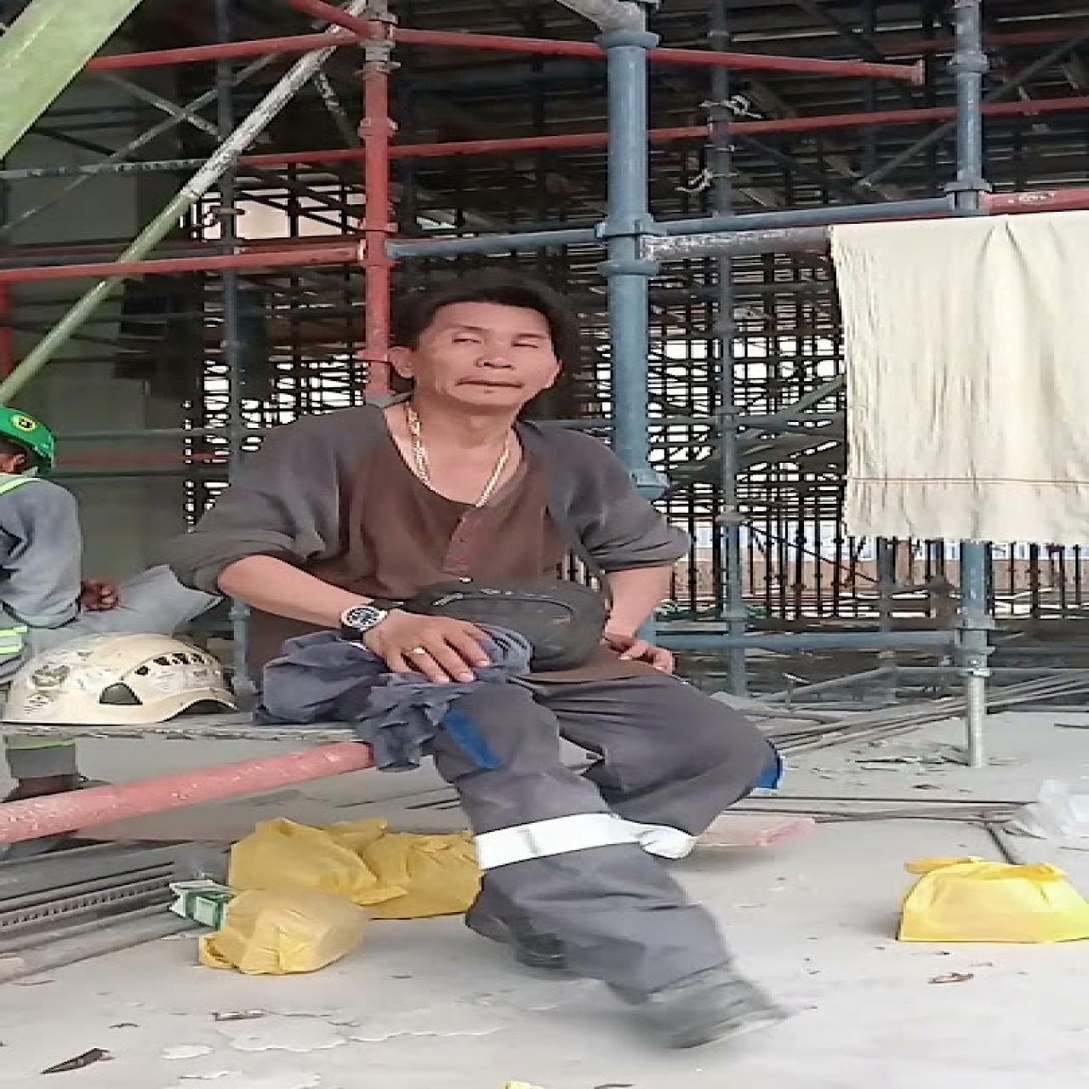NO_Safety_Vest: (292, 407, 609, 663)
Person: (159, 265, 812, 1034)
